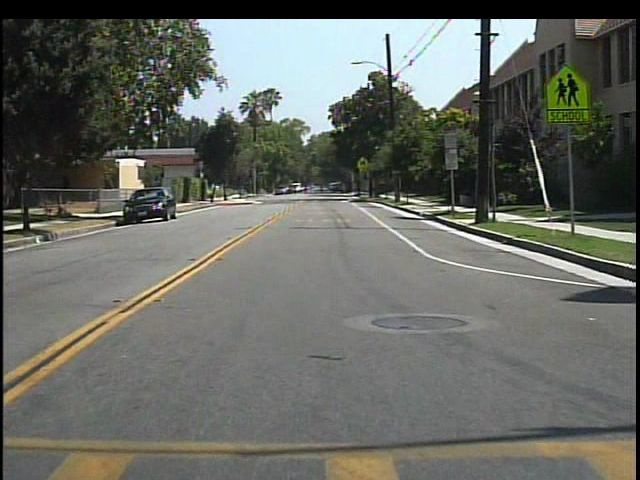person: (314, 179, 328, 197)
